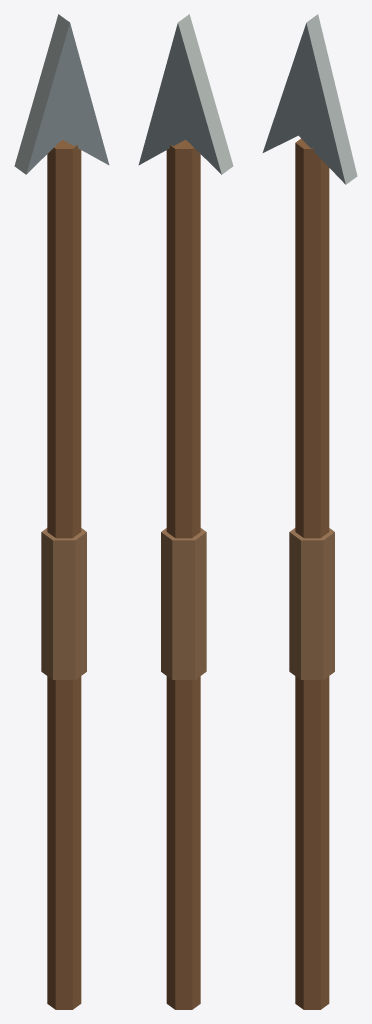
File: barbed_javelin.glb
The picture shows the model from 3 angles, left to right: view 1: azimuth 30°, elevation 25°; view 2: azimuth 150°, elevation 25°; view 3: azimuth 330°, elevation 25°; orthographic projection.
Visible parts, largest first — view 1: barbed_javelin; view 2: barbed_javelin; view 3: barbed_javelin.
Boxes of the visible parts, x1=… form: barbed_javelin: x1=14, y1=14, x2=109, y2=1009; barbed_javelin: x1=138, y1=14, x2=233, y2=1009; barbed_javelin: x1=262, y1=14, x2=357, y2=1009.
Size of the model in its own units: 0.148 by 1.67 by 0.07.
